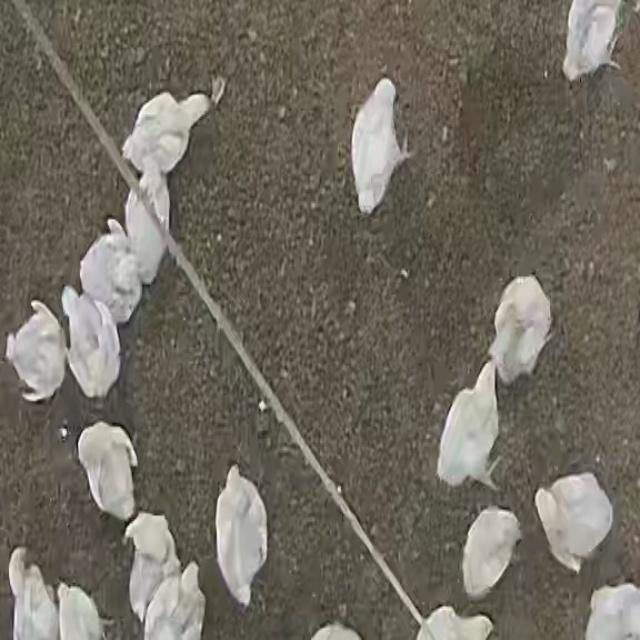chicken: (346, 74, 410, 217), (437, 362, 502, 492), (535, 472, 614, 572), (215, 466, 268, 608), (62, 287, 124, 402), (122, 90, 212, 168), (490, 276, 552, 386), (78, 221, 140, 325), (124, 512, 182, 622), (6, 299, 67, 403), (76, 423, 139, 523), (461, 507, 521, 601), (561, 0, 629, 80), (122, 177, 169, 284)
